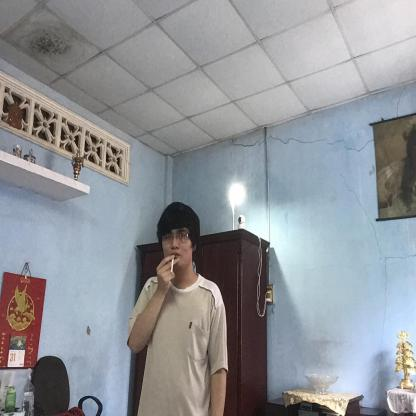cigarette: (170, 258, 176, 274)
person: (126, 204, 231, 416)
